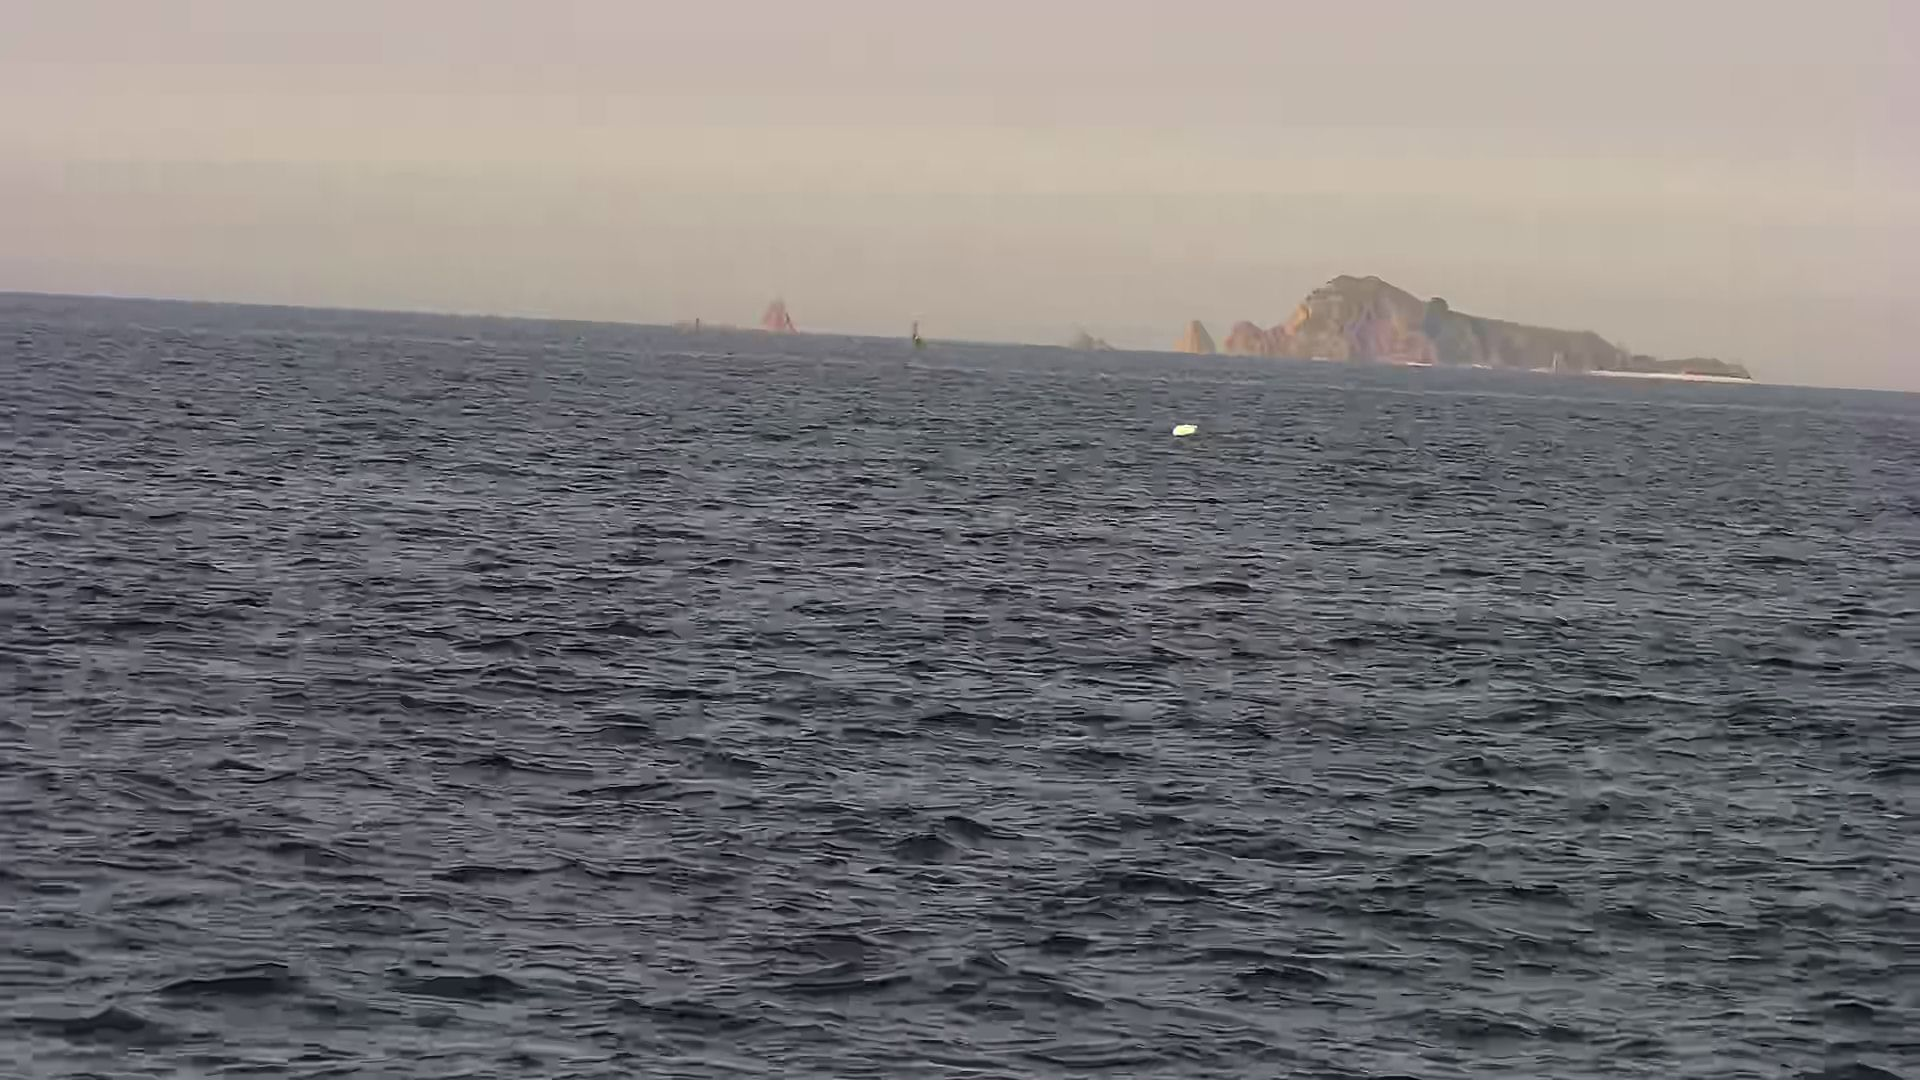ball: (1162, 411, 1209, 446)
